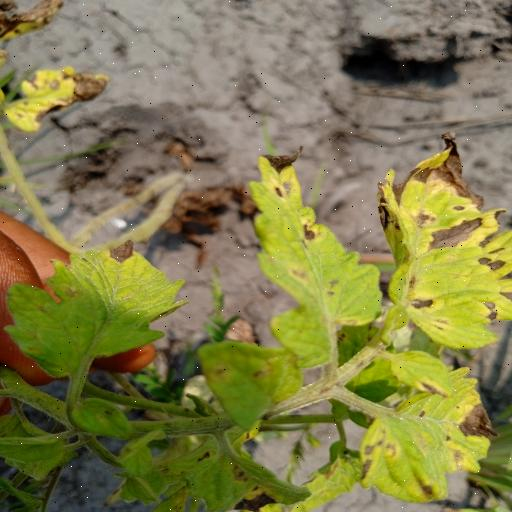Tomato_Brown_Spots: (246, 148, 386, 359), (386, 128, 512, 345), (7, 238, 185, 382), (355, 383, 493, 503)
